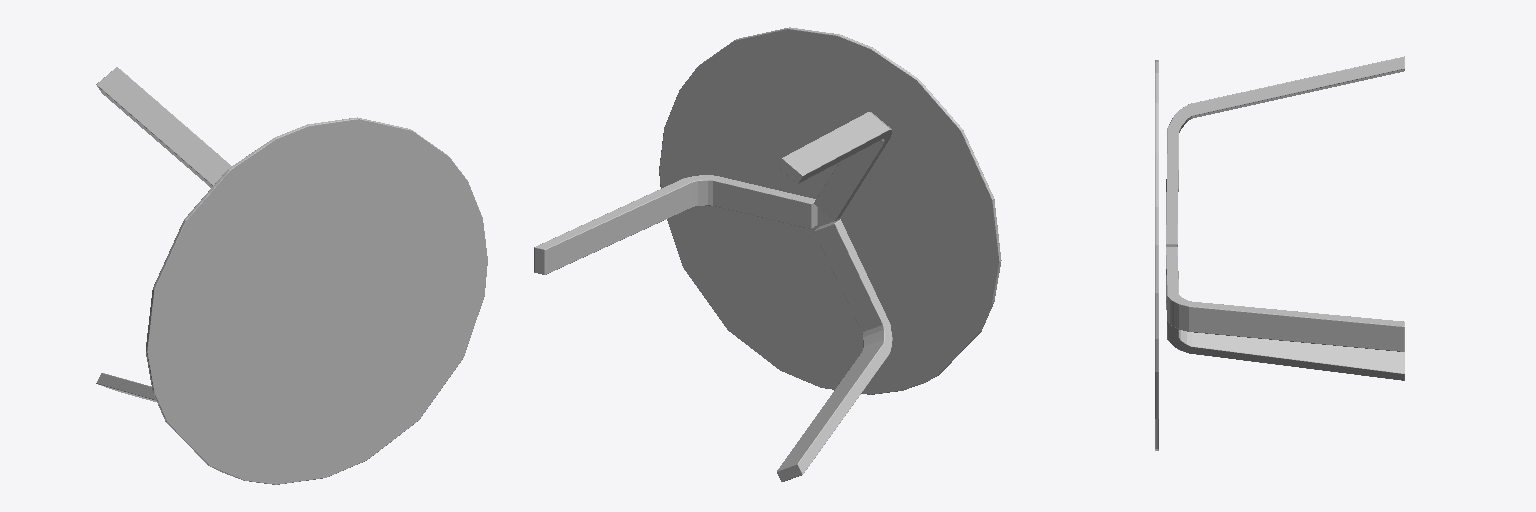
The picture shows the model from 3 angles: view 1: azimuth 30°, elevation 25°; view 2: azimuth 150°, elevation 25°; view 3: azimuth 270°, elevation 25°; orthographic projection.
Visible parts, largest first — view 1: Bella_Coffee_Table_Cylinder.025; view 2: Bella_Coffee_Table_Cylinder.025; view 3: Bella_Coffee_Table_Cylinder.025.
Part boxes in pixels (left/top/right/bottom): Bella_Coffee_Table_Cylinder.025: left=96, top=67, right=487, bottom=484; Bella_Coffee_Table_Cylinder.025: left=534, top=27, right=1001, bottom=481; Bella_Coffee_Table_Cylinder.025: left=1155, top=56, right=1404, bottom=450.
Size of the model in its own units: 0.6023 by 0.5993 by 0.381.